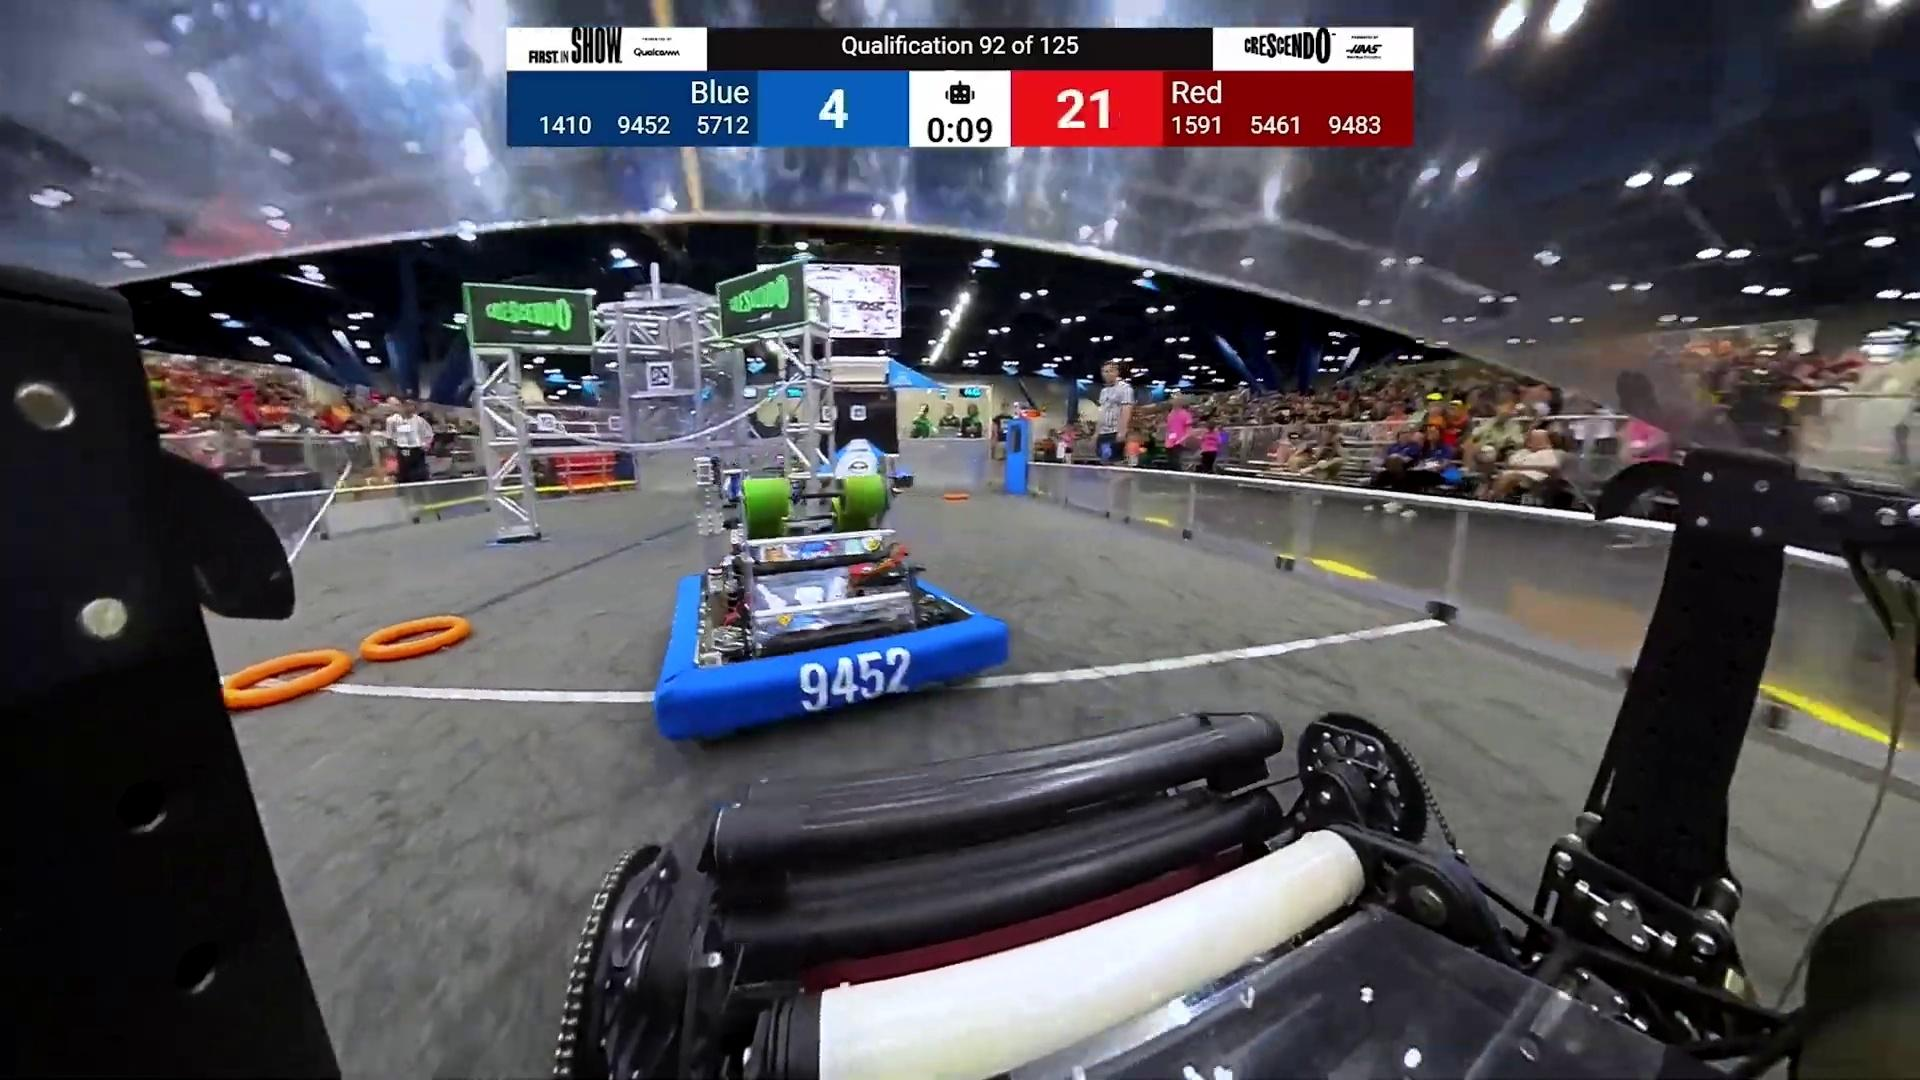robot: (655, 456, 1013, 748), (725, 452, 804, 506), (858, 459, 916, 489)
